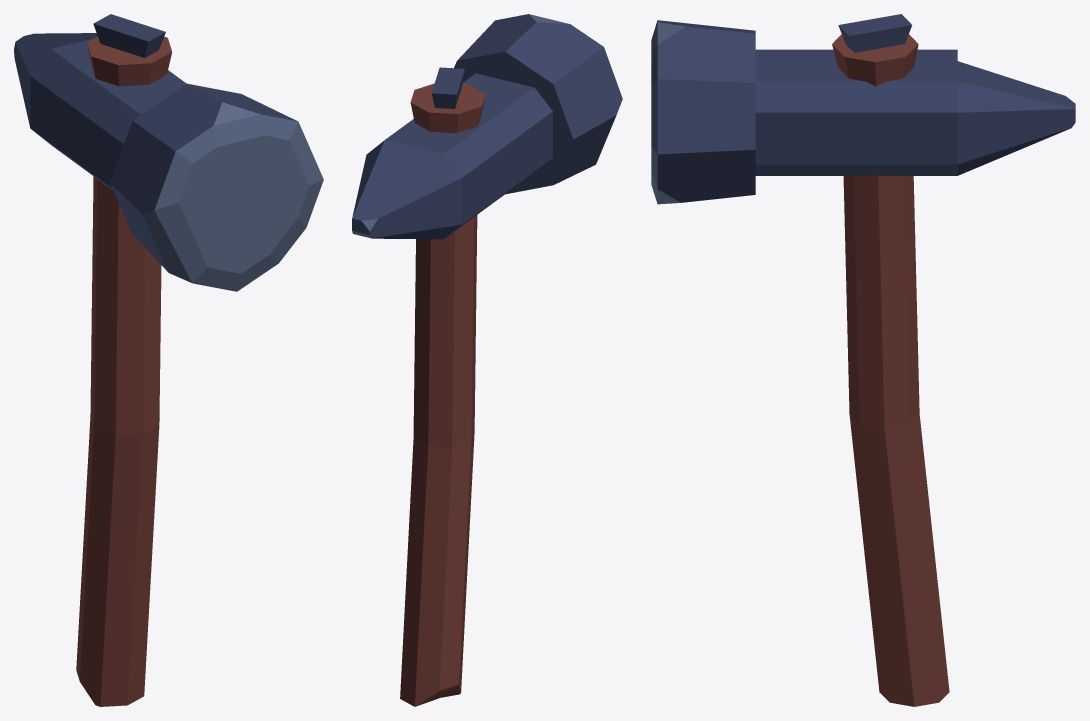
File: Hammer_02.fbx
3 views of the same model, side by side, from view 1: azimuth 30°, elevation 25°; view 2: azimuth 150°, elevation 25°; view 3: azimuth 270°, elevation 25° (orthographic). The views are drawn at different scales.
Parts seen in each view (by area): view 1: Hammer 02; view 2: Hammer 02; view 3: Hammer 02.
Boxes of the visible parts, left/top/right/bottom form: Hammer 02: left=14, top=14, right=323, bottom=706; Hammer 02: left=352, top=14, right=622, bottom=706; Hammer 02: left=651, top=14, right=1075, bottom=706.
Size of the model in its own units: 22.24 by 83.9 by 48.38.
